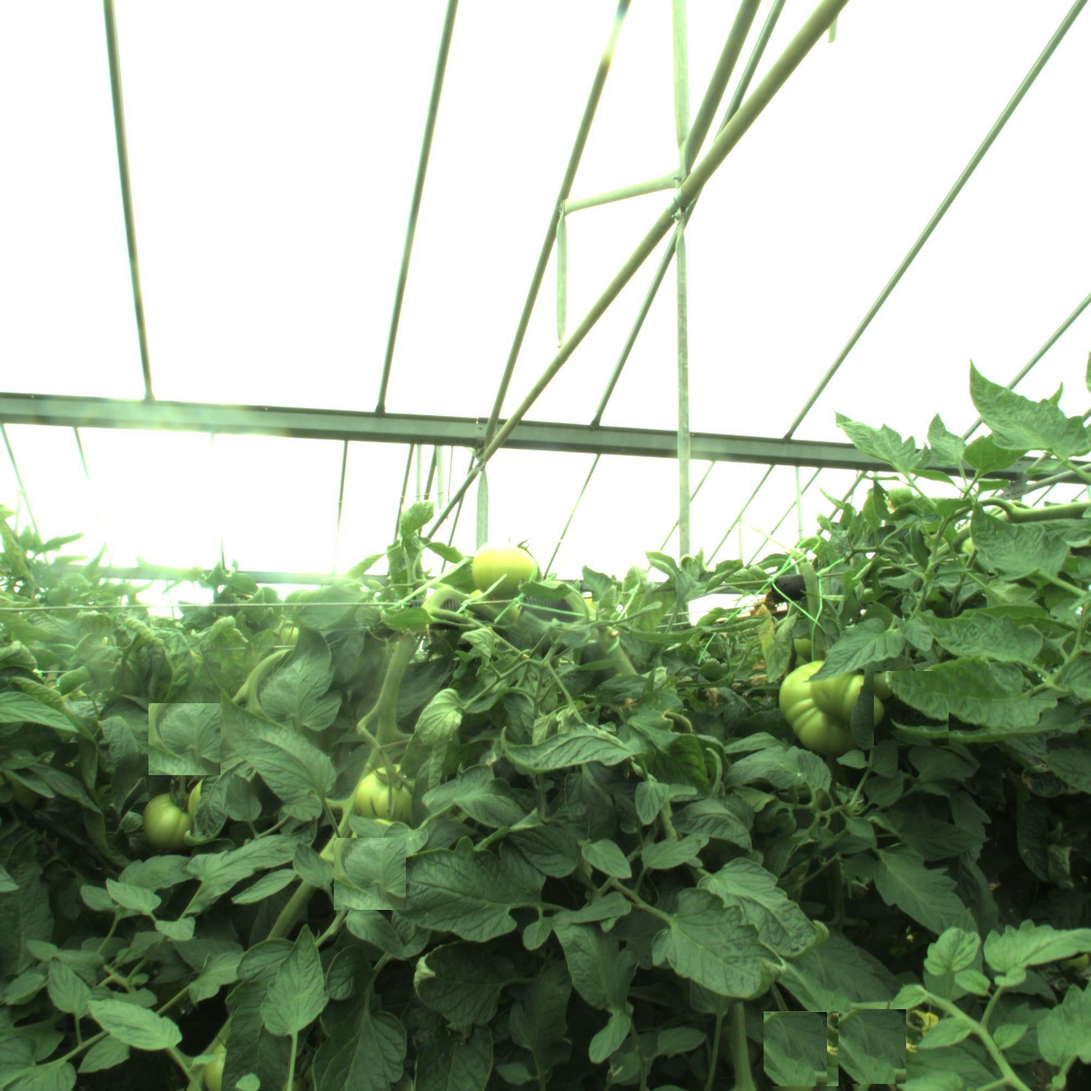unripe: (781, 658, 877, 754), (353, 766, 418, 831), (142, 787, 206, 852), (474, 541, 538, 605)
